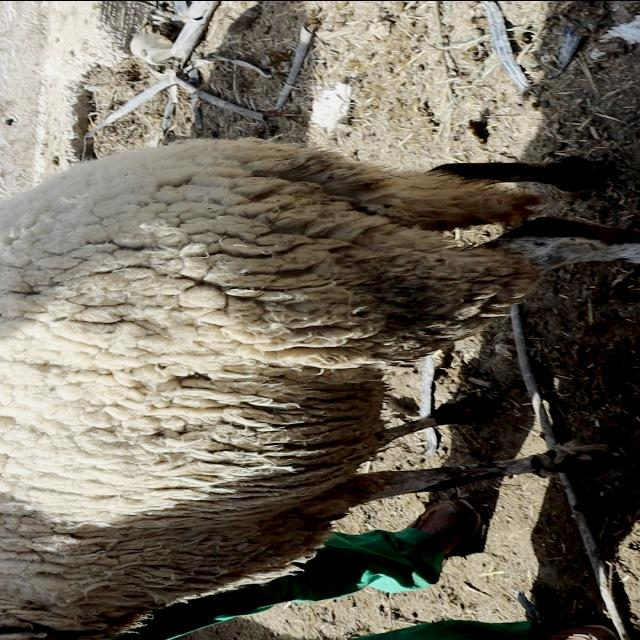Score_3: (0, 137, 639, 640)
